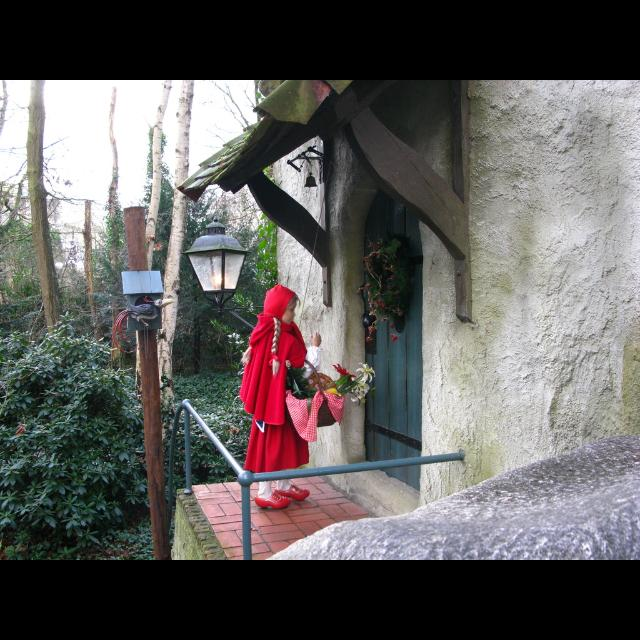Flower: (352, 378, 376, 402), (356, 360, 378, 384), (334, 363, 360, 382)
